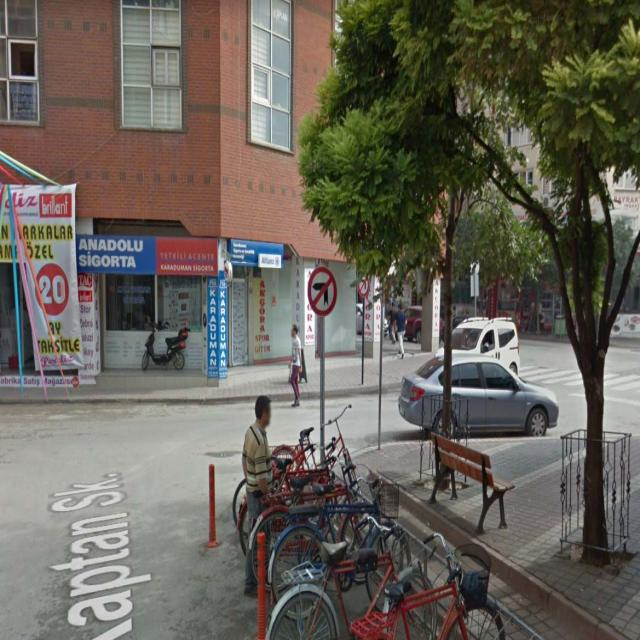soladonulmez: (308, 268, 337, 315), (358, 274, 368, 296)
